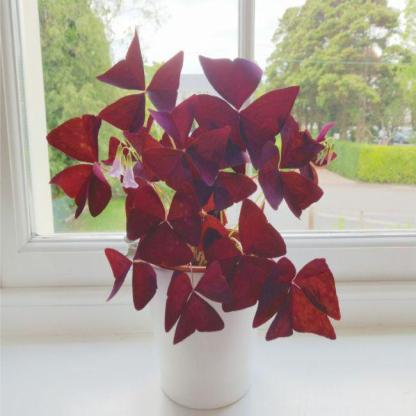other: (62, 33, 372, 345)
